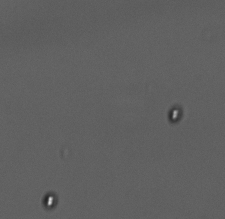Living Cell: (42, 192, 59, 210), (168, 105, 183, 123)
